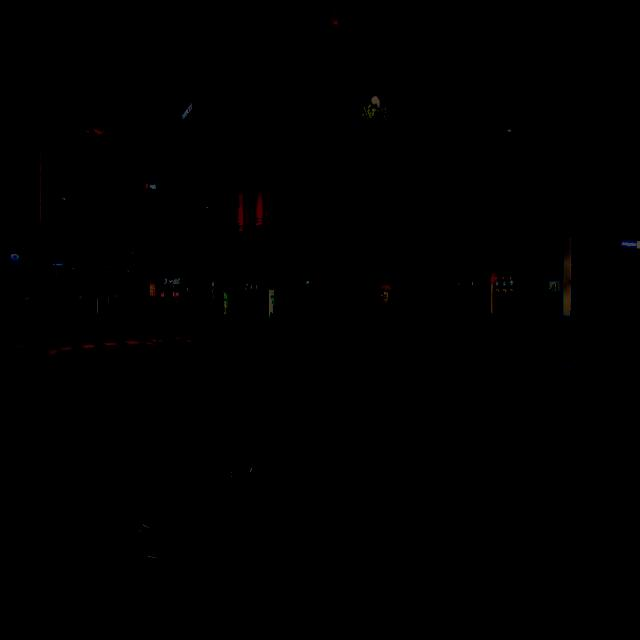Motorbike: (31, 320, 369, 607)
